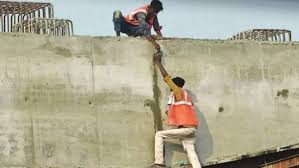arm: (151, 52, 177, 99), (143, 26, 160, 50)
leg: (149, 127, 195, 168), (181, 138, 209, 168), (110, 10, 126, 36)
nohelmet: (172, 72, 185, 86), (148, 1, 163, 13)
vest: (165, 84, 197, 128)
